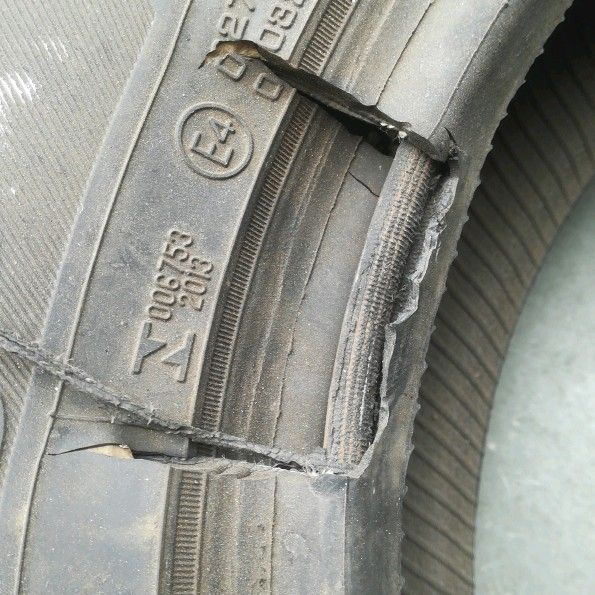bead_damage: (3, 35, 465, 483)
